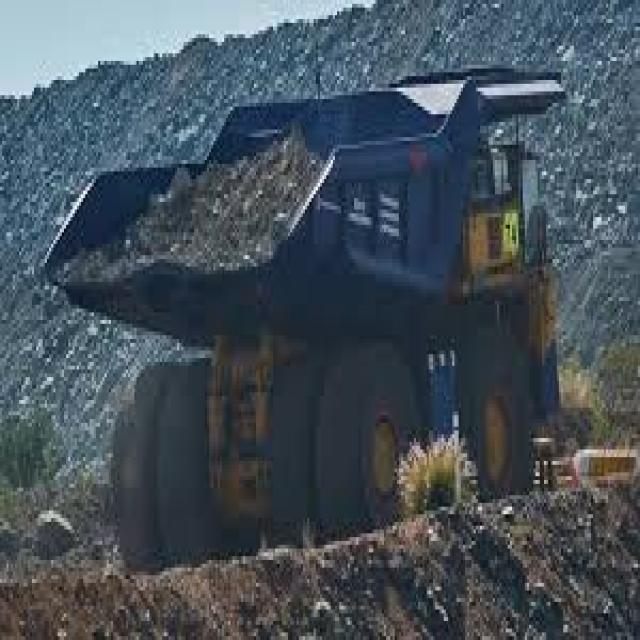dump_truck: (47, 26, 606, 568)
